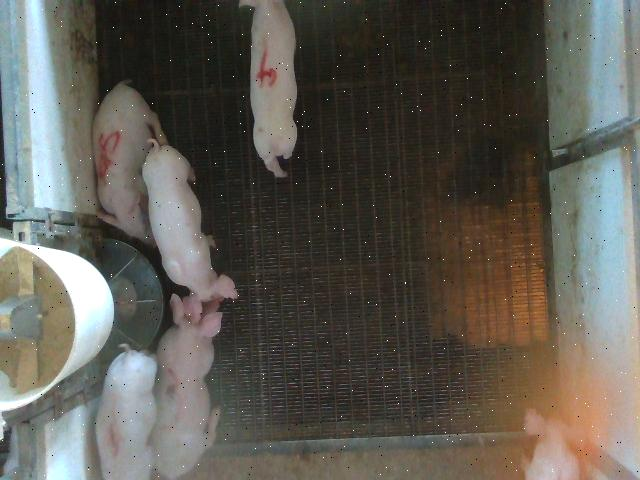pig-1: (150, 295, 221, 479), (96, 344, 158, 479)
pig-4: (241, 0, 296, 177)
pig-5: (92, 80, 168, 246)
